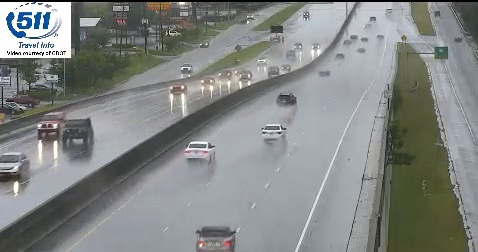car: (196, 226, 237, 252), (184, 141, 215, 161), (262, 124, 286, 141), (276, 92, 296, 108)
